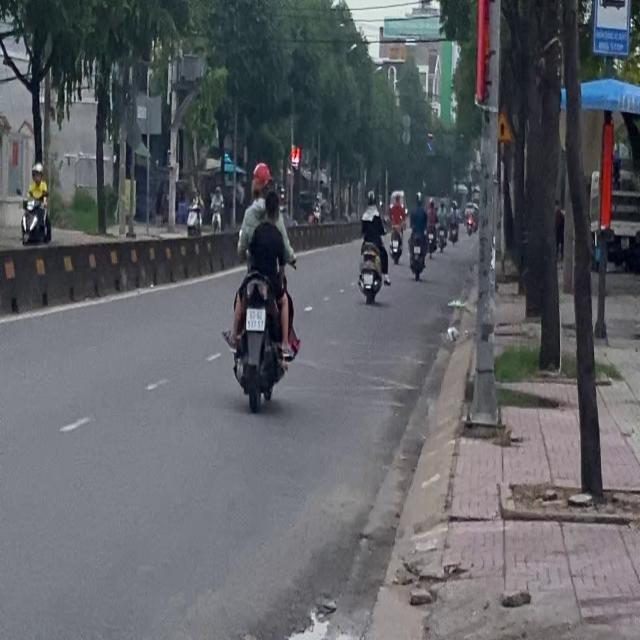helmet: (251, 161, 271, 198)
licenseplate: (224, 160, 300, 410)
motorcyclist: (264, 188, 280, 220)
nohelmet: (246, 309, 265, 331)
